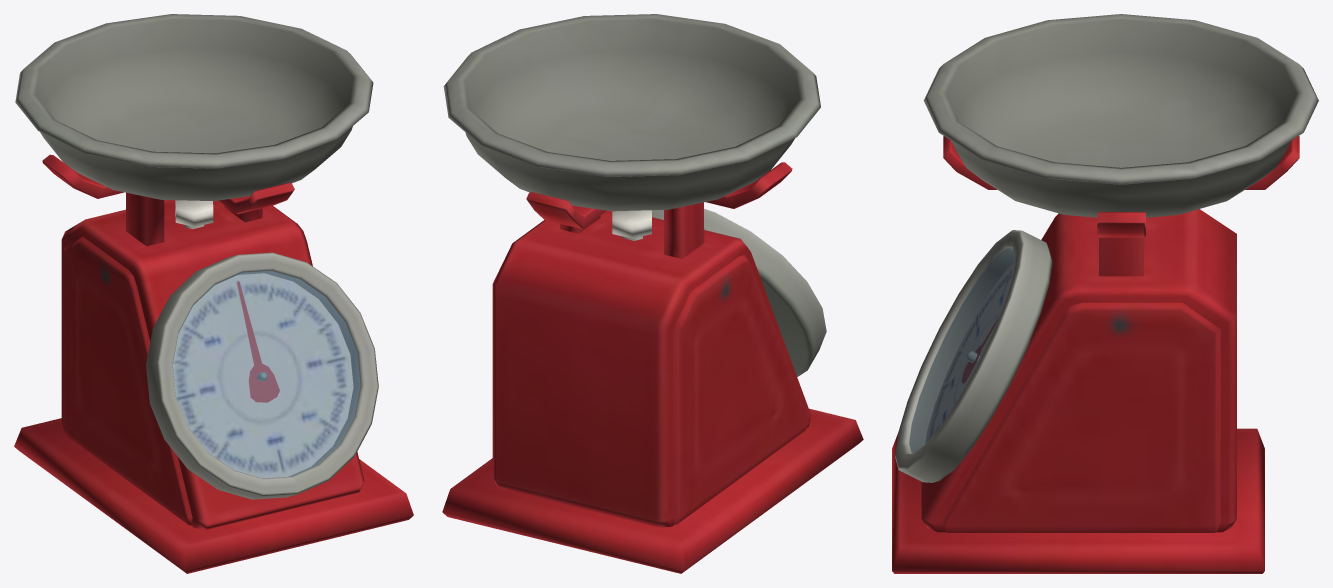
3 renders of one model, left to right at view 1: azimuth 30°, elevation 25°; view 2: azimuth 150°, elevation 25°; view 3: azimuth 270°, elevation 25°, orthographic. The views are drawn at different scales.
Size of the model in its own units: 5.05 by 5.95 by 5.46.
2 materials, 1 textured.
